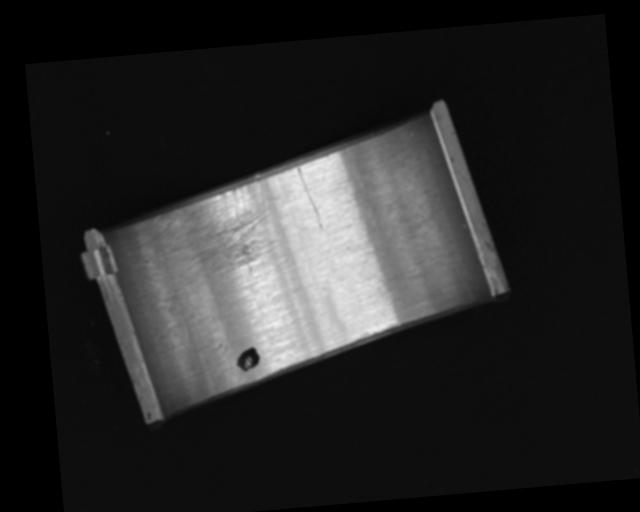blot: (234, 345, 261, 372)
nick: (418, 207, 474, 308), (297, 165, 325, 234)
scratch: (151, 176, 275, 281)
